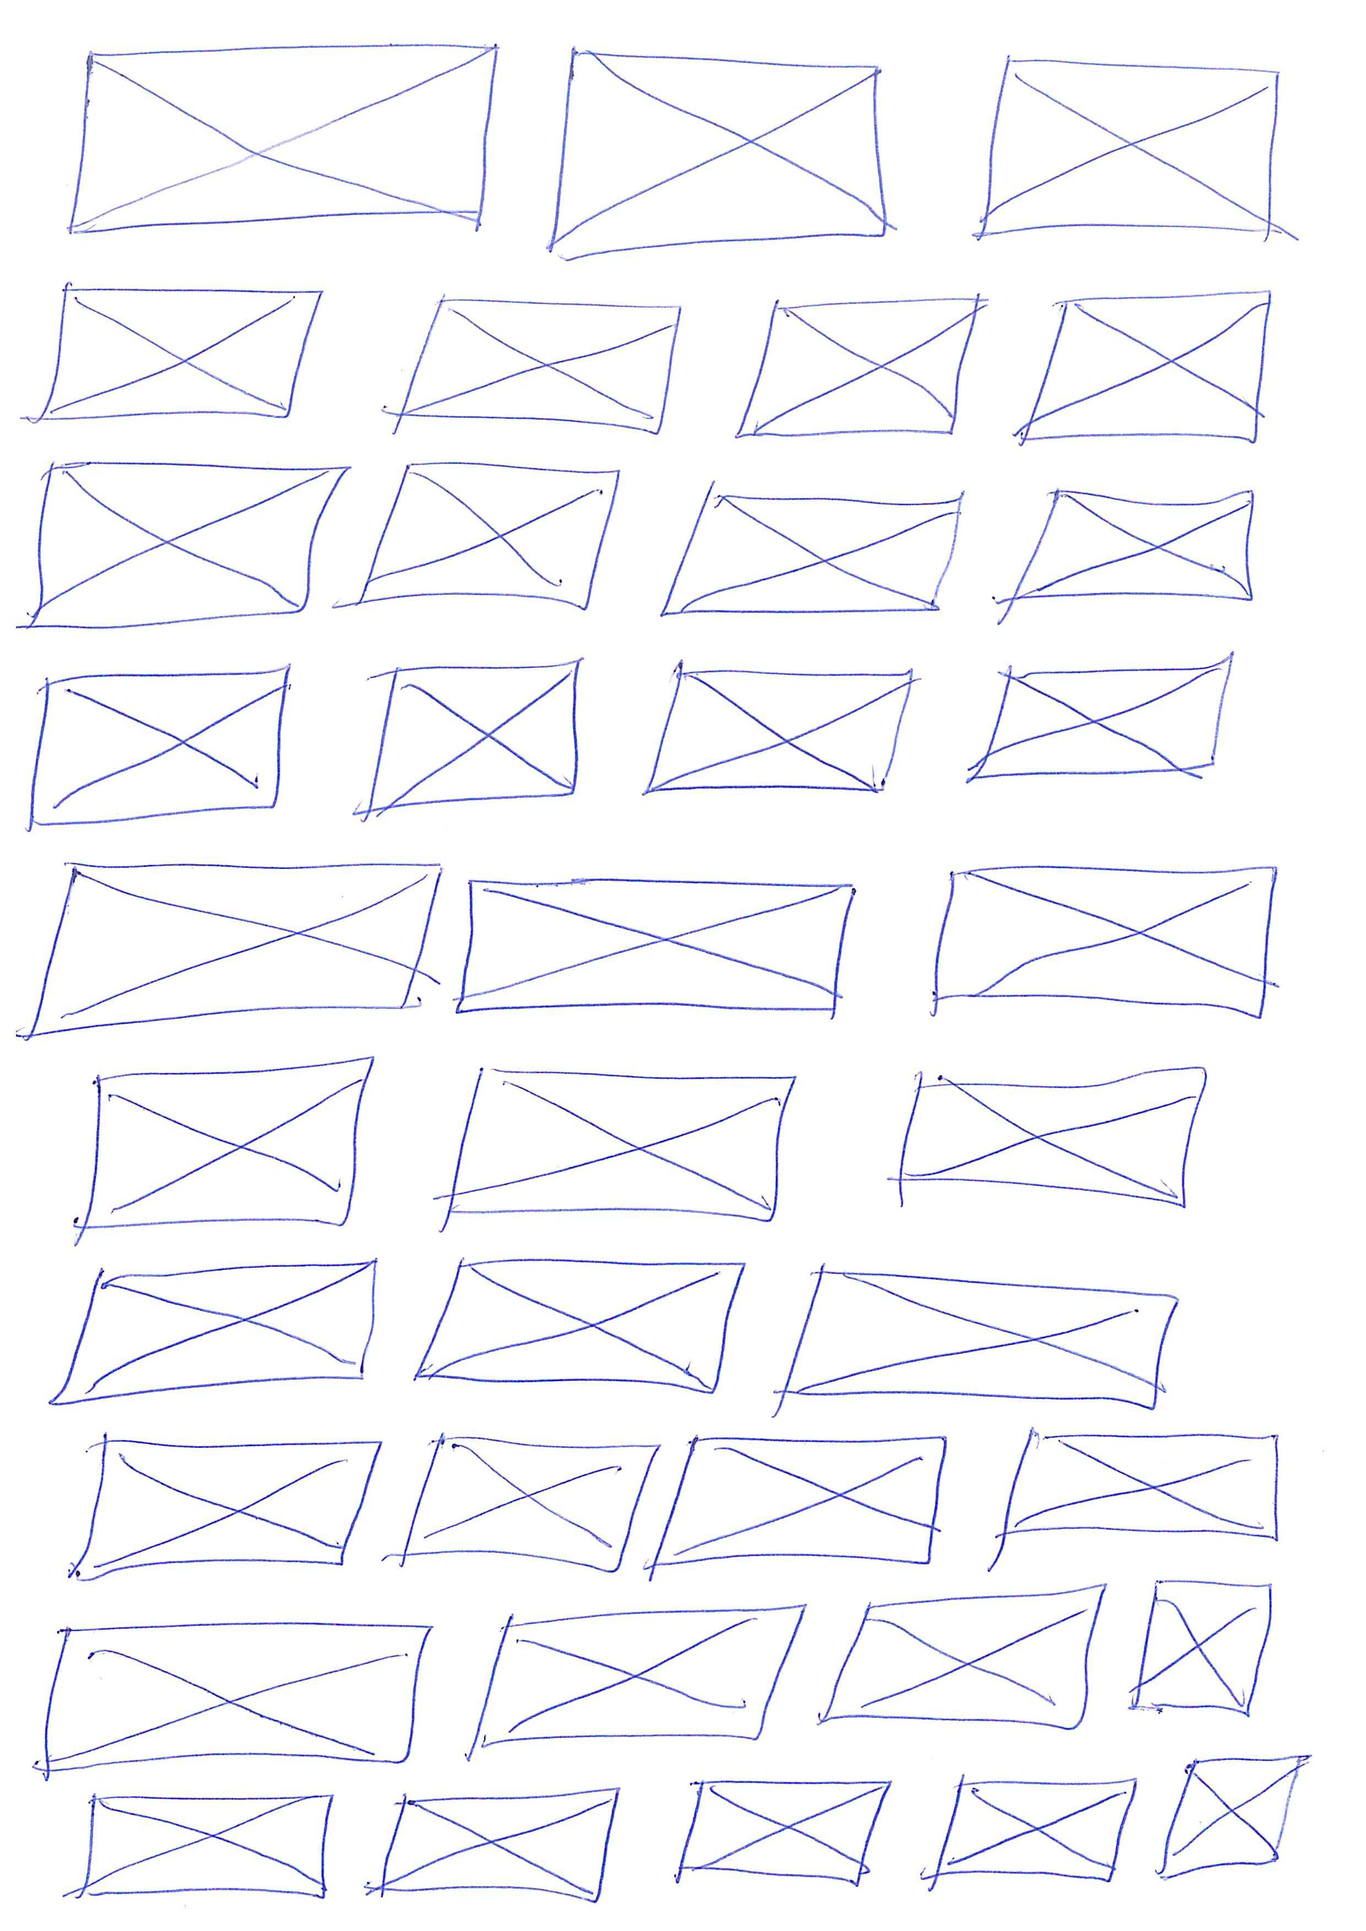Image: (62, 38, 504, 240), (16, 855, 446, 1044), (544, 47, 891, 266), (38, 1616, 444, 1785), (772, 1264, 1186, 1414), (927, 856, 1282, 1028), (19, 457, 353, 634), (449, 874, 857, 1019), (69, 1053, 381, 1241), (441, 1066, 801, 1226), (971, 58, 1285, 240), (467, 1597, 812, 1757), (44, 1254, 381, 1406), (61, 1433, 384, 1586), (410, 1251, 750, 1397), (812, 1579, 1118, 1734), (894, 1062, 1211, 1211), (22, 662, 294, 834), (24, 282, 330, 427), (387, 291, 684, 438), (1013, 287, 1276, 449), (349, 458, 624, 614), (650, 1431, 951, 1572), (653, 486, 968, 620), (636, 662, 920, 801), (390, 1431, 662, 1576), (353, 656, 588, 819), (730, 294, 985, 444), (959, 654, 1237, 790), (993, 1425, 1291, 1547), (67, 1789, 341, 1901), (371, 1785, 625, 1906), (1004, 486, 1261, 606), (921, 1771, 1141, 1884), (1124, 1575, 1277, 1717), (1152, 1749, 1311, 1884)
